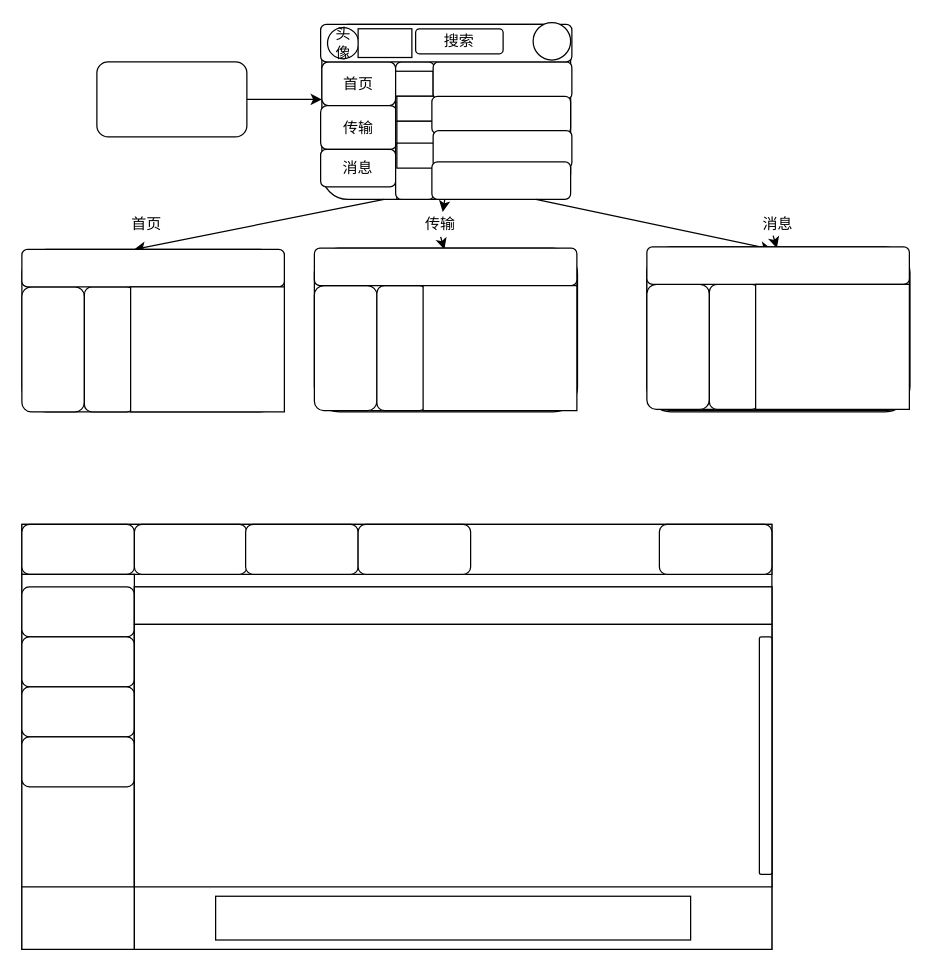
This 933x971 diagram has some shape labels left out. The shapes that lost their labels are listed below. From the top down, each one's box as (x1, y1, x2, y2) in pixels, then its label:
(357, 28, 412, 58): name
(532, 21, 571, 60): 设置
(96, 61, 247, 137): login
